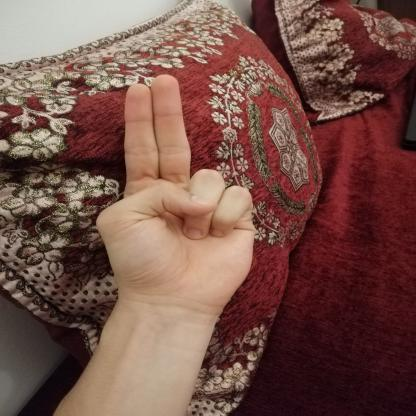TA: (74, 64, 268, 326)
